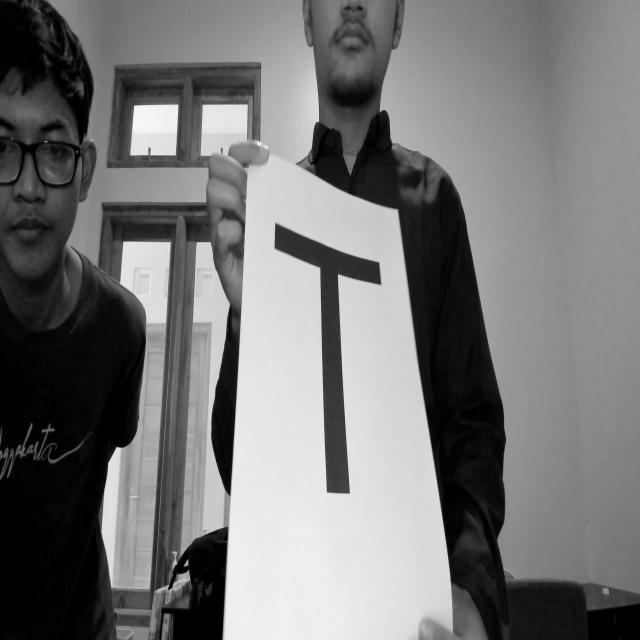t: (269, 209, 399, 522)
